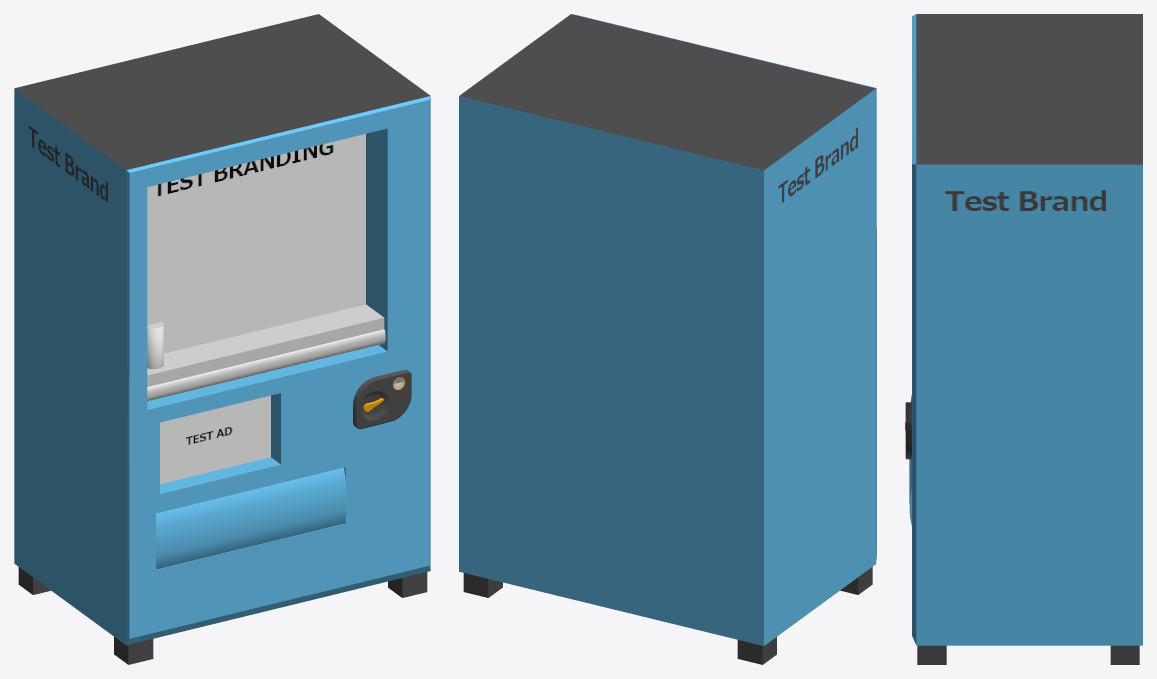
Rendered from Vending_Machine.dae.
3 renders of one model, left to right at view 1: azimuth 30°, elevation 25°; view 2: azimuth 150°, elevation 25°; view 3: azimuth 270°, elevation 25°, orthographic.
Visible parts, largest first — view 1: Machine, Door, Shelf, Button_Shelf, PayFrame, Legs, Bottle; view 2: Machine, Legs; view 3: Machine, Legs, PayFrame.
Boxes of the visible parts, bbox=[...] form: Machine: bbox=[14, 14, 430, 645]; Door: bbox=[156, 467, 346, 569]; Shelf: bbox=[147, 304, 384, 386]; Button_Shelf: bbox=[147, 329, 385, 401]; PayFrame: bbox=[353, 369, 411, 428]; Legs: bbox=[18, 567, 427, 664]; Bottle: bbox=[147, 322, 163, 368]; Machine: bbox=[459, 14, 876, 645]; Legs: bbox=[463, 567, 872, 664]; Machine: bbox=[912, 14, 1142, 645]; Legs: bbox=[917, 645, 1139, 664]; PayFrame: bbox=[905, 402, 911, 459].
Bounding box in the file's own units: 2.45 × 1.63 × 3.81.
Materials: 1 (1 with a texture image).
